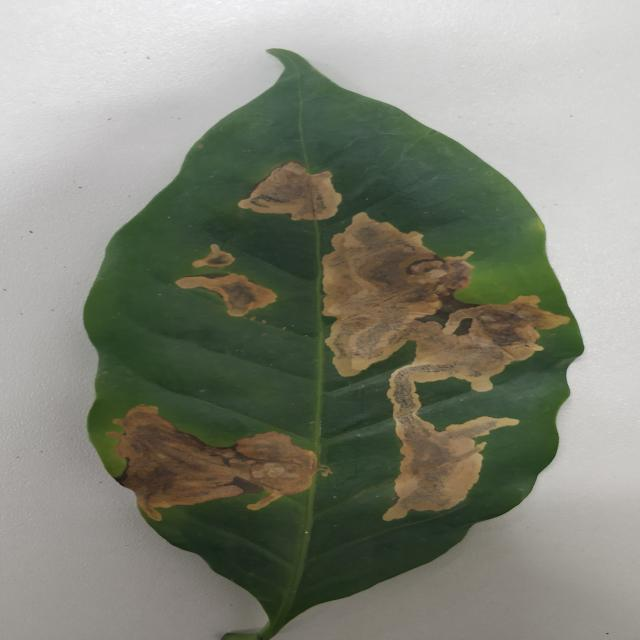Plaga-Minador: (82, 48, 586, 640)
